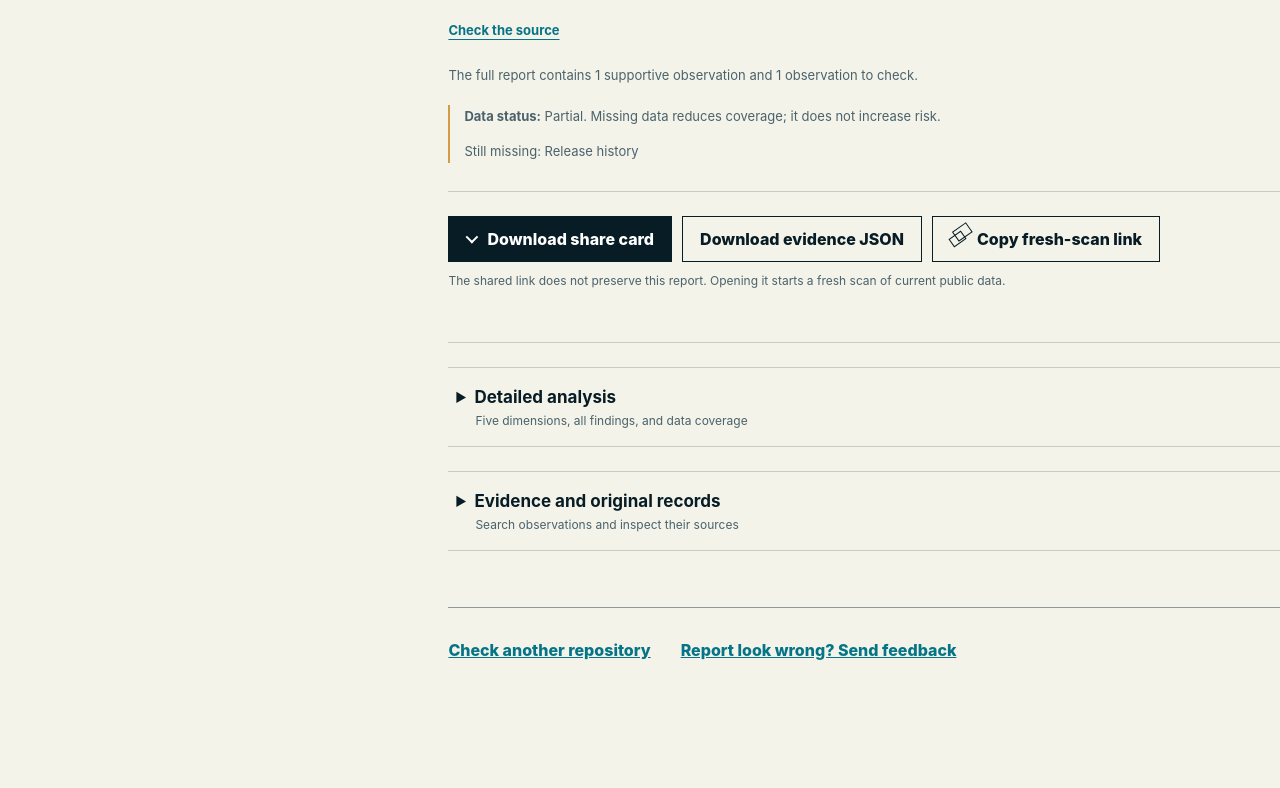
Test: ReportPage › renders unknown finding keys with a neutral localized fallback
(page scrolled)
Click the heading that starts with "Detailed analysis". click: (611, 407)
box: [474,387,748,428]
(page scrolled)
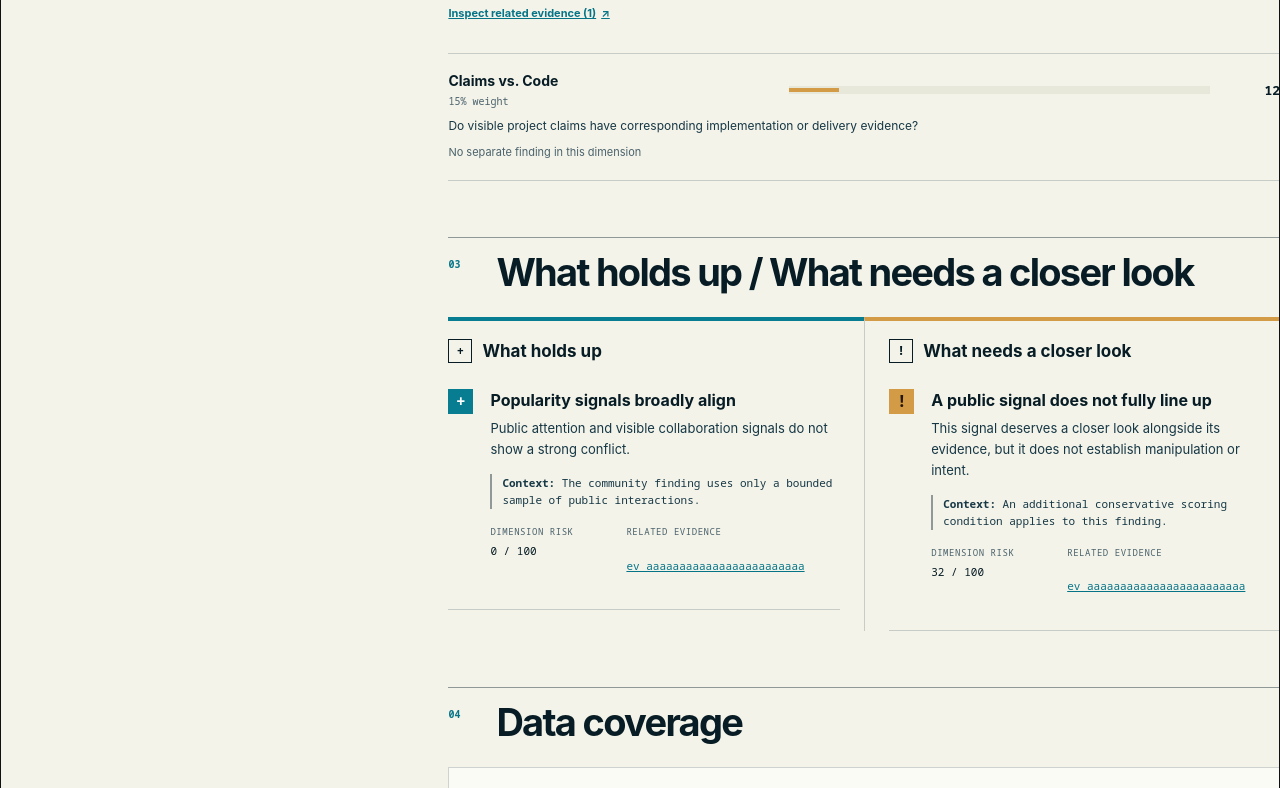
Expected: the heading "A public signal does not fully line up" is shown, [931,390,1212,410]
